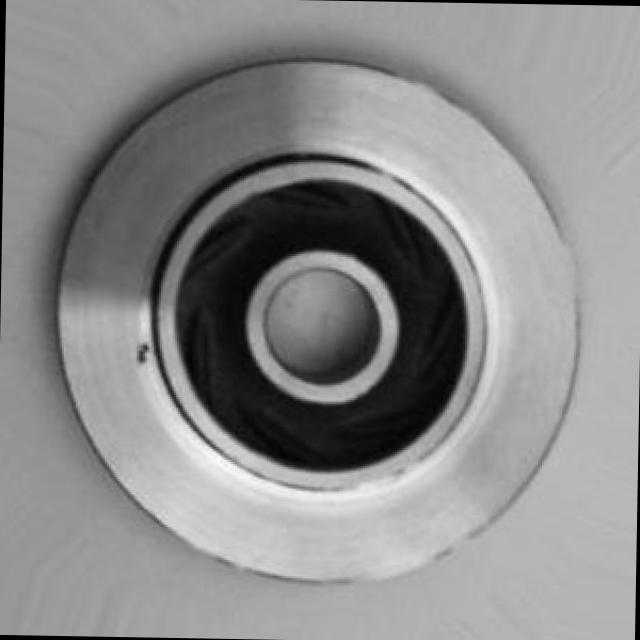Defect: (131, 336, 156, 368)
